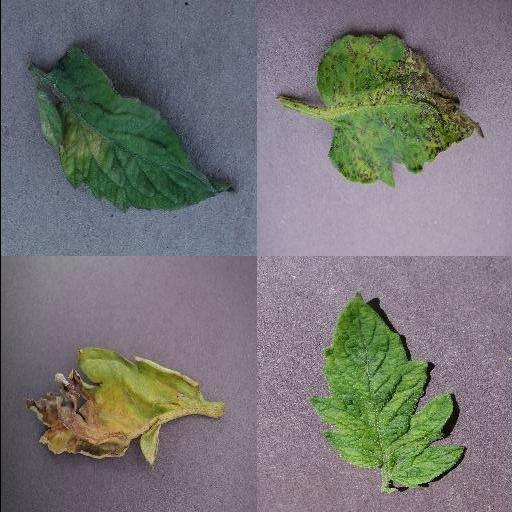Late Blight: (20, 346, 206, 468)
Leaf Mold: (35, 45, 233, 213)
Mosaic Virus: (309, 293, 465, 487)
Septoria: (318, 33, 484, 189)
